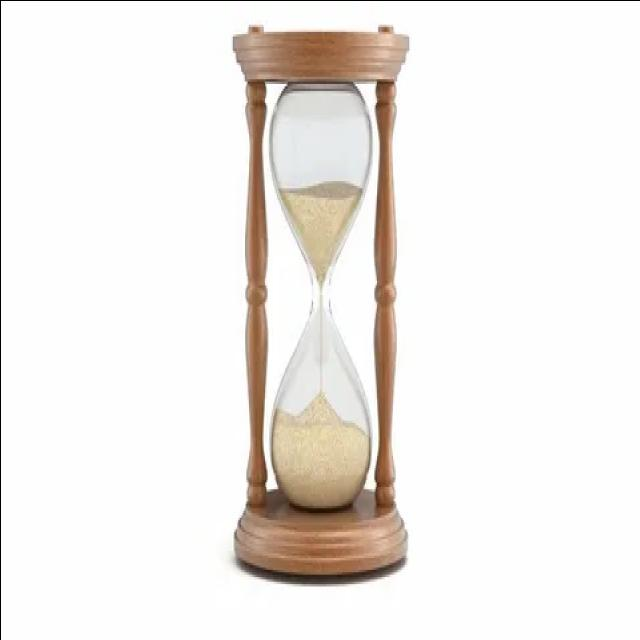clock: (220, 9, 416, 586)
